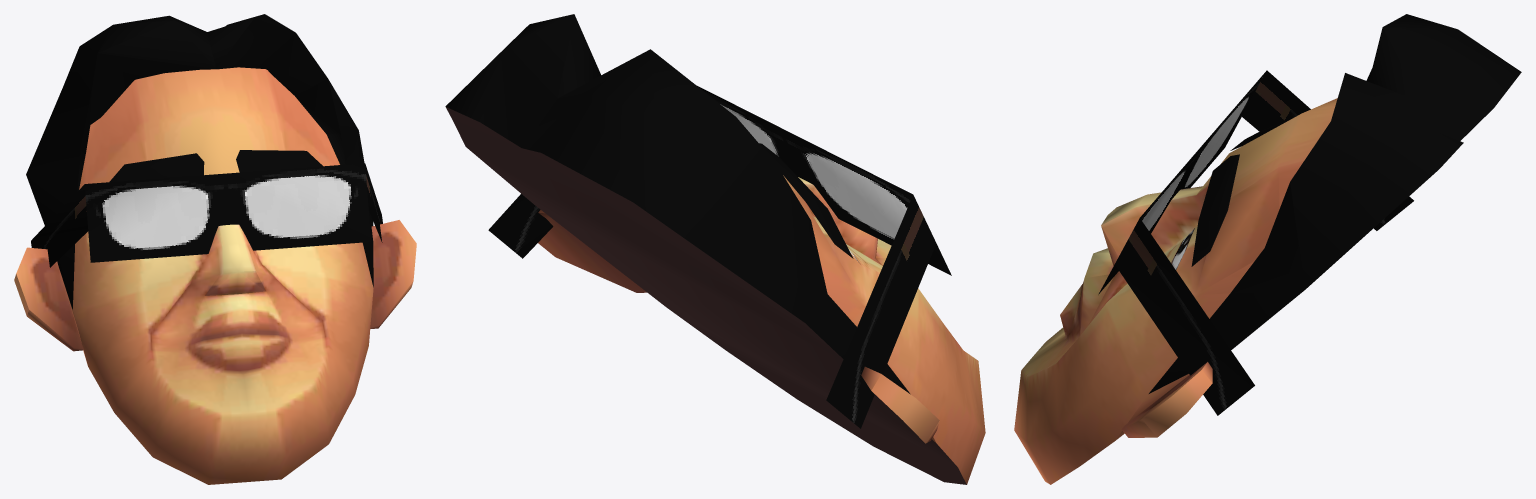
File: DrKawashima.fbx
3 views of the same model, side by side, from view 1: azimuth 30°, elevation 25°; view 2: azimuth 150°, elevation 25°; view 3: azimuth 270°, elevation 25° (orthographic). The views are drawn at different scales.
Parts seen in each view (by area): view 1: kawashima_color, kawashima_glasses; view 2: kawashima_color, kawashima_glasses; view 3: kawashima_color, kawashima_glasses.
Boxes of the visible parts, x1,y1,x2,y2 form: kawashima_color: (14, 14, 416, 484); kawashima_glasses: (31, 159, 382, 267); kawashima_color: (445, 14, 985, 484); kawashima_glasses: (488, 86, 951, 428); kawashima_color: (1014, 14, 1521, 484); kawashima_glasses: (1098, 70, 1413, 415).
Bounding box in the file's own units: 1549 × 1581 × 1553.
